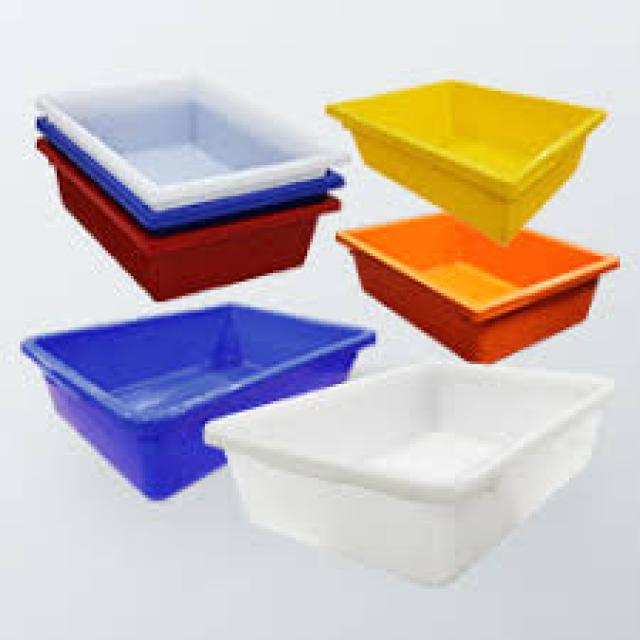basket: (16, 183, 392, 525), (205, 357, 623, 596), (30, 56, 361, 315), (308, 56, 610, 259), (318, 192, 626, 390)
